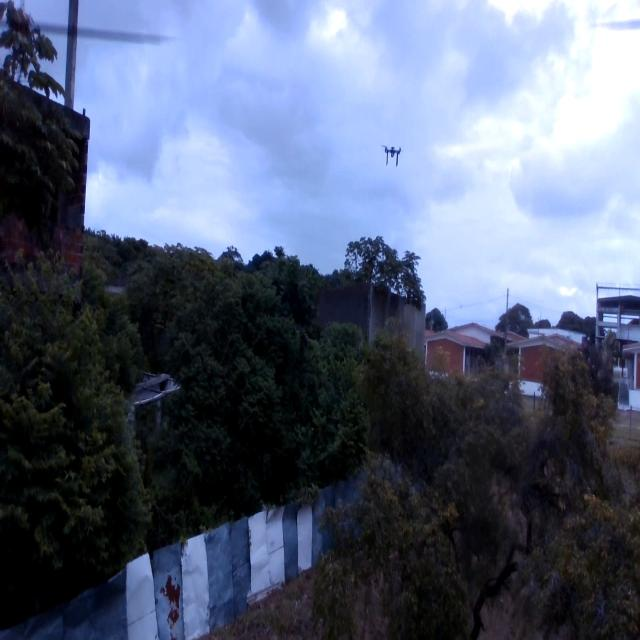-uav-: (380, 138, 404, 175)
